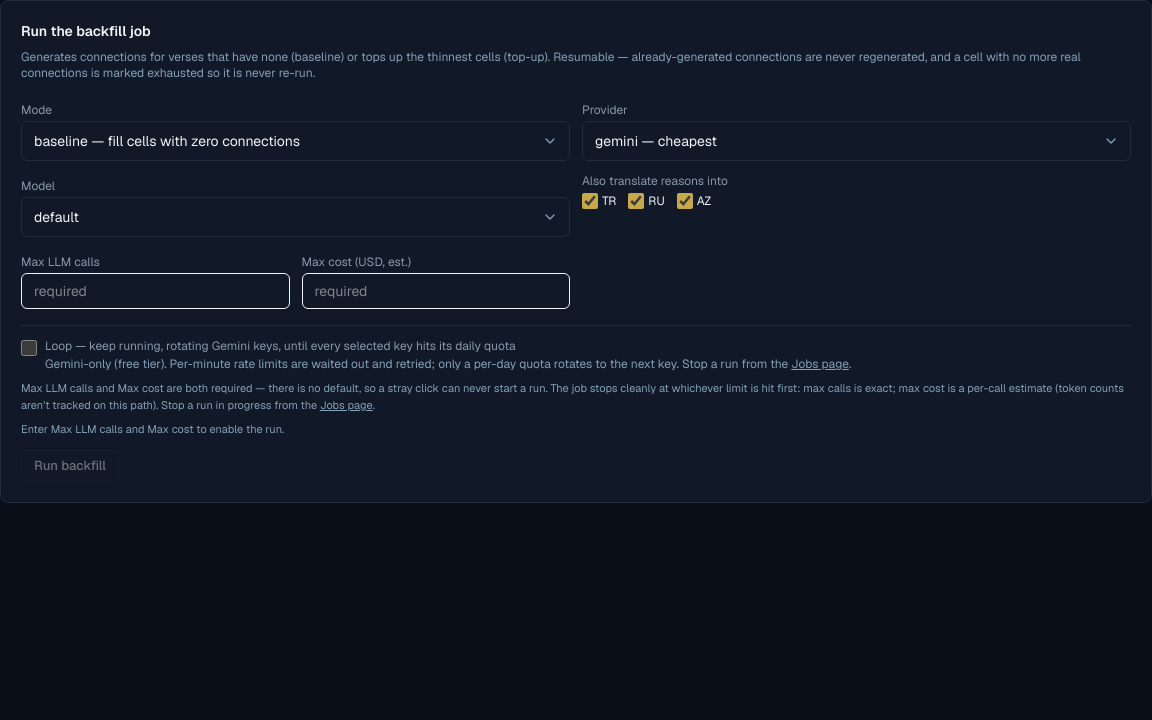
Test: BackfillRunner › keeps the admin's typed inputs after an 'already running' error
Select "top-up — add more to the thinnest cells" in the dropdown labelled "Mode" at coordinates (296, 141), box [21,121,570,161]
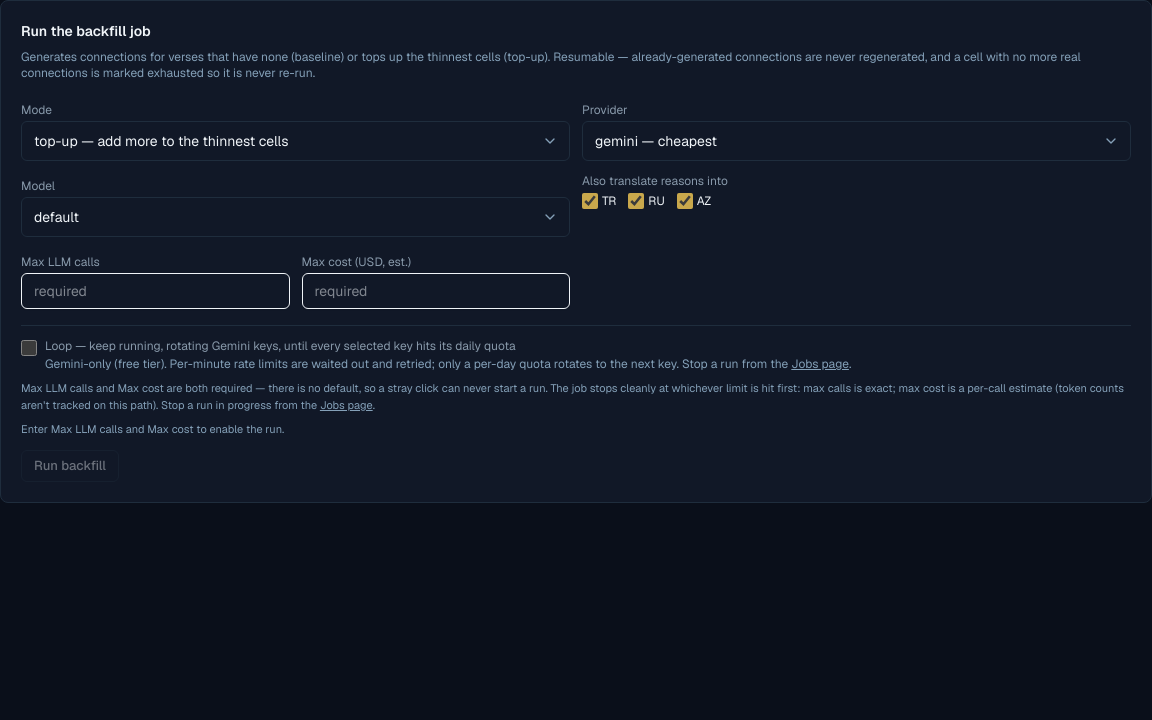
Type "50" into the number field labelled "Max LLM calls" at coordinates (155, 291), box [21,273,290,309]
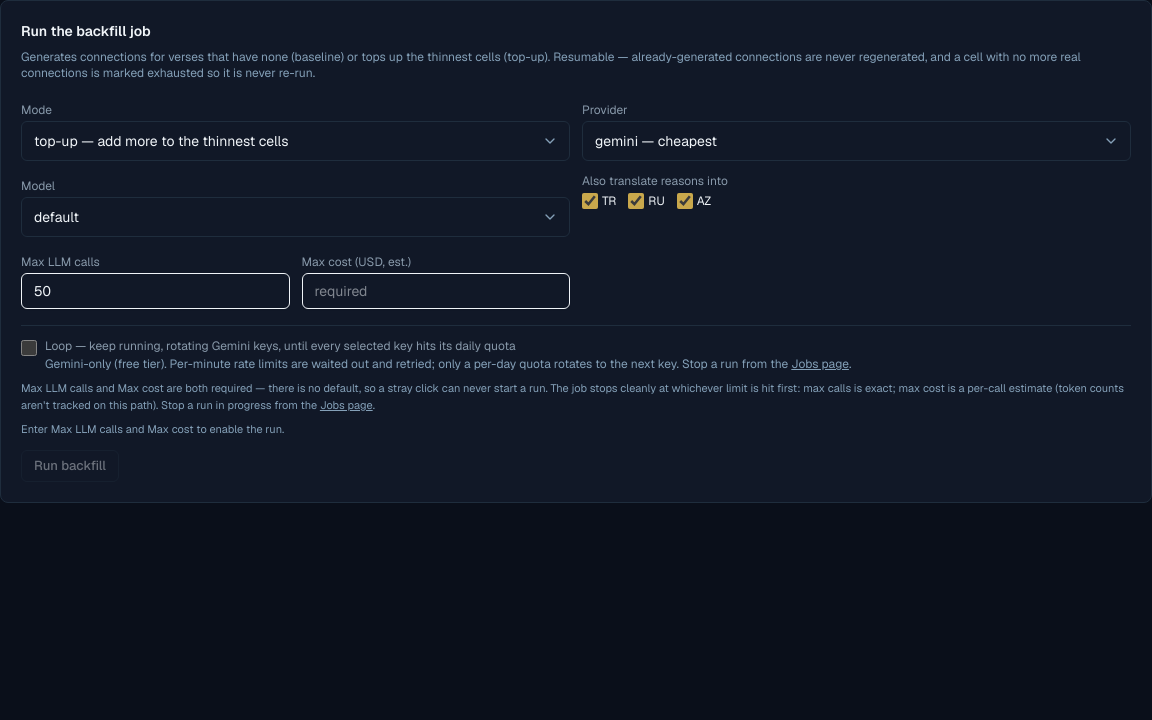
Type "3" into the number field labelled "Max cost (USD, est.)" at coordinates (436, 291), box [302,273,570,309]
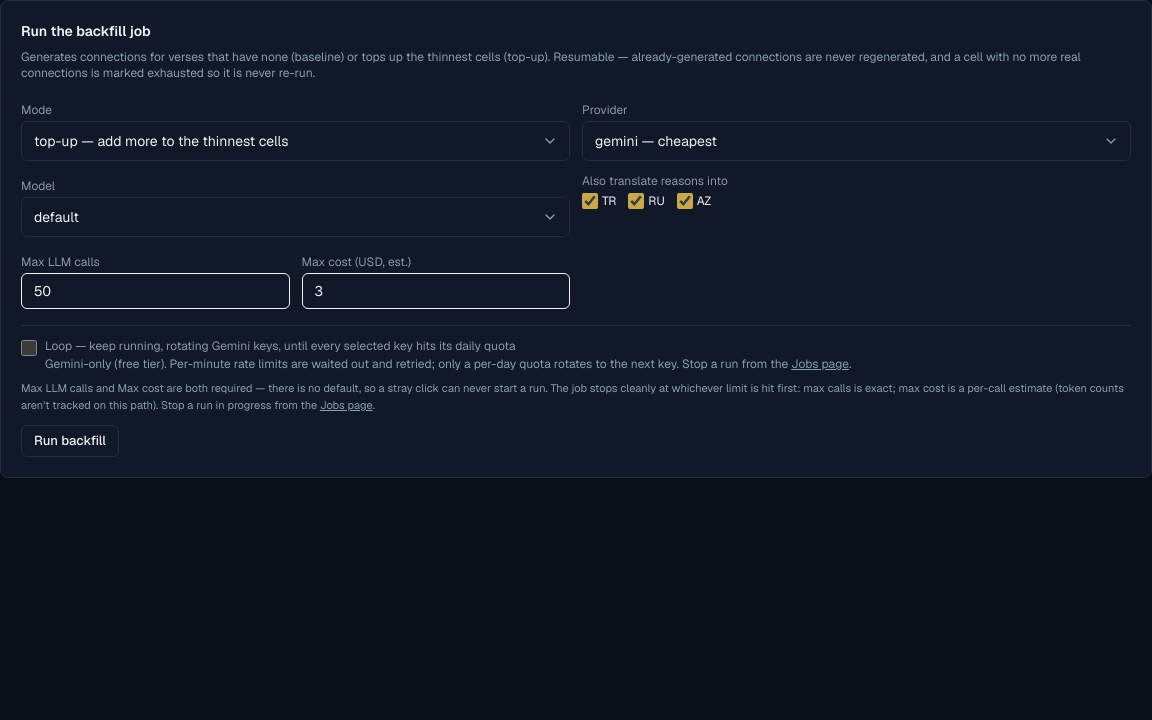
Click the button "Run backfill" at coordinates (70, 441), box [21,425,119,457]
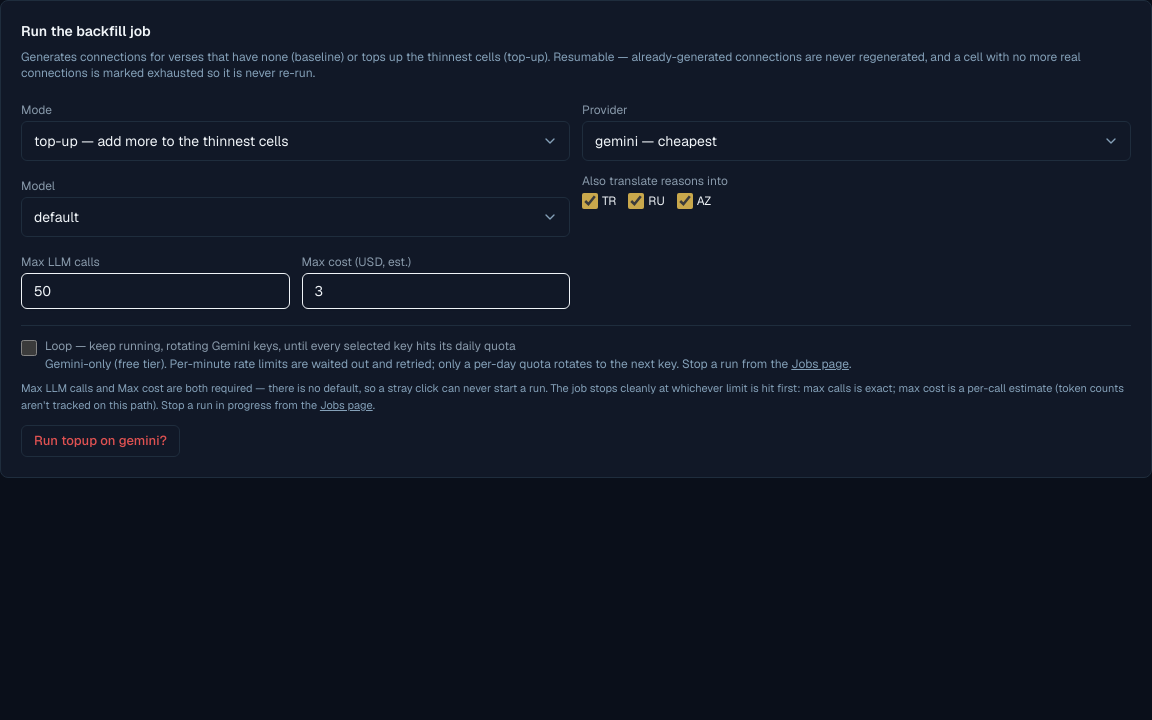
Click the button "Run topup on gemini?" at coordinates (100, 441), box [21,425,180,457]
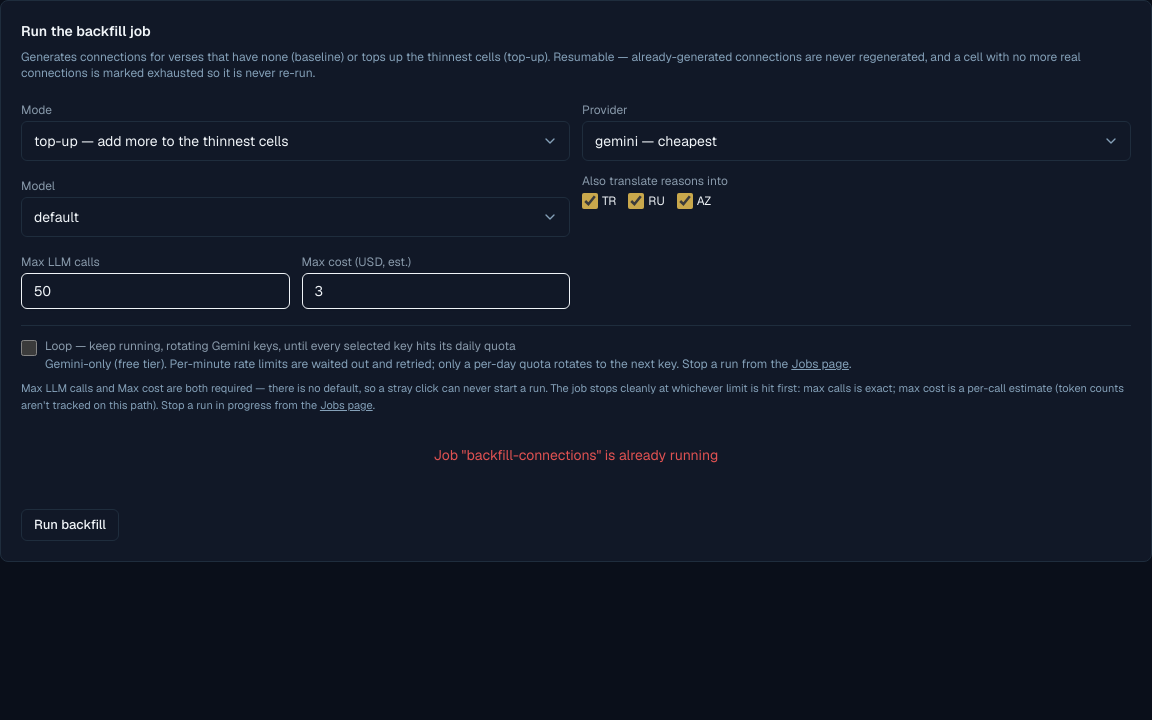
Expected: the button "Run backfill" is enabled, [21,509,119,541]
Expected: the text "Job \"backfill-connections\" is already running" is shown, [434,446,718,464]
